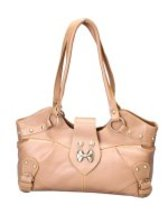bag: (6, 17, 159, 198)
